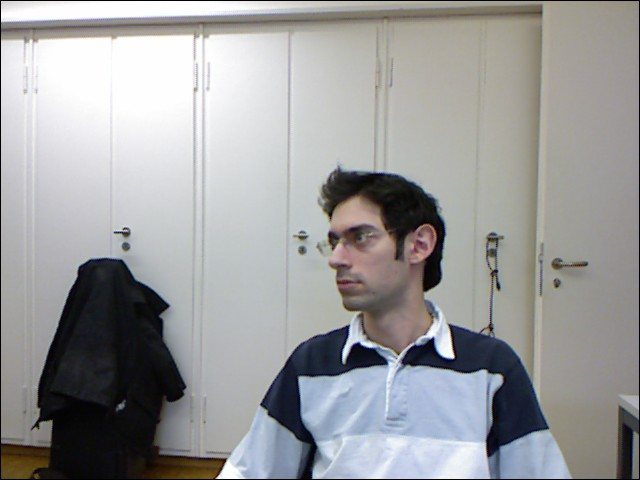deflection: (287, 175, 524, 480)
